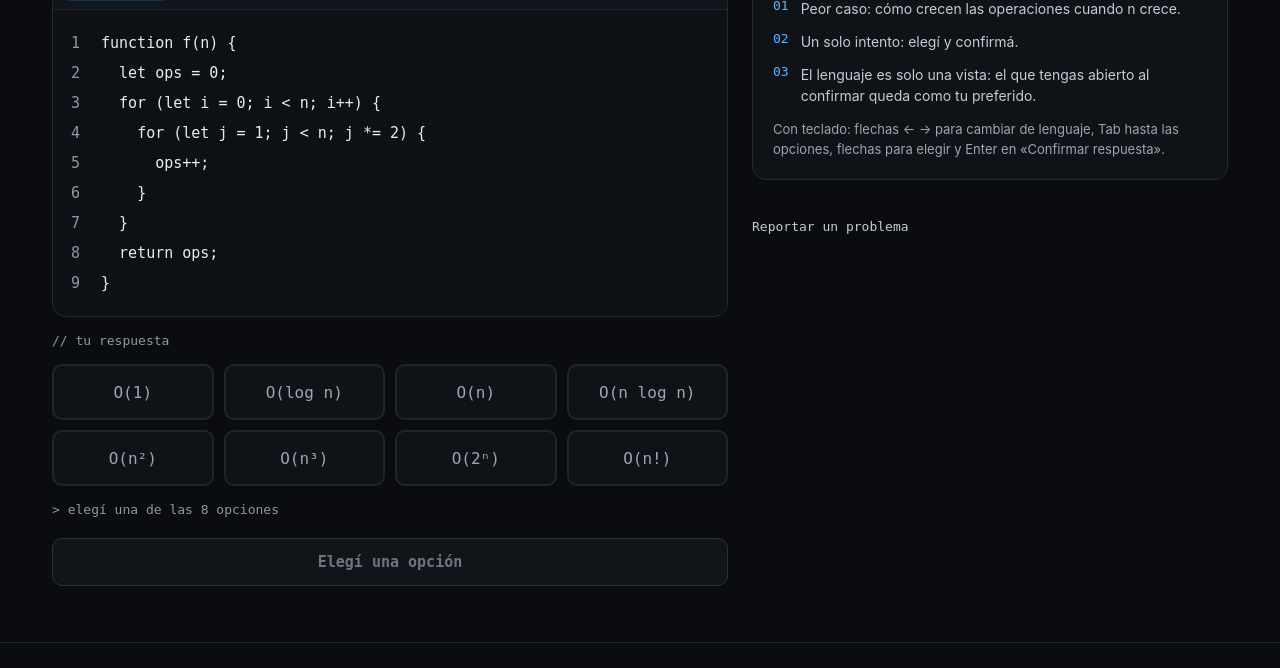
partida › TS-13: cambiar de lenguaje no hace requests ni borra la opción
(page scrolled)
Click the radio button labelled "O(n²)".
click(133, 458)  # box [52,430,214,486]
(page scrolled)
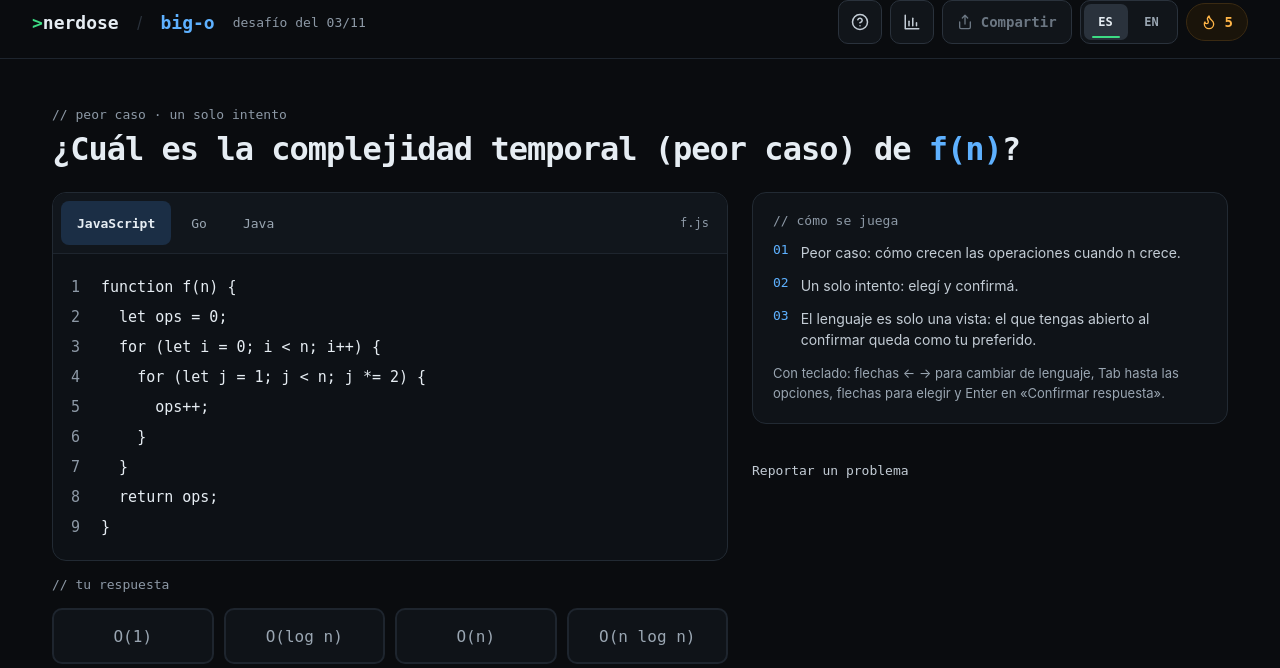
Click the tab "Go".
click(199, 223)  # box [175,201,223,245]
(page scrolled)
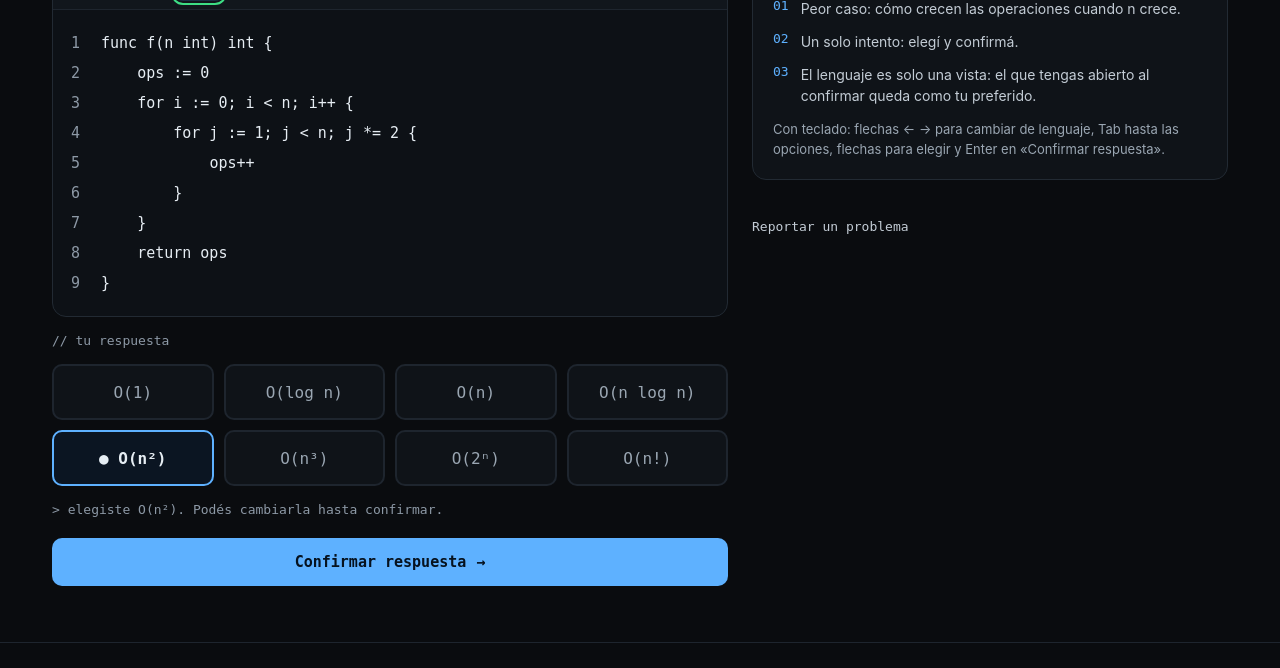
expect the text "> elegiste O(n²). Podés cambiarla hasta confirmar." is shown: met, box [52,502,443,517]
expect the panel named "Código de f(n) en Go" shows "func f(n int) int {": met, box [101,34,273,52]
